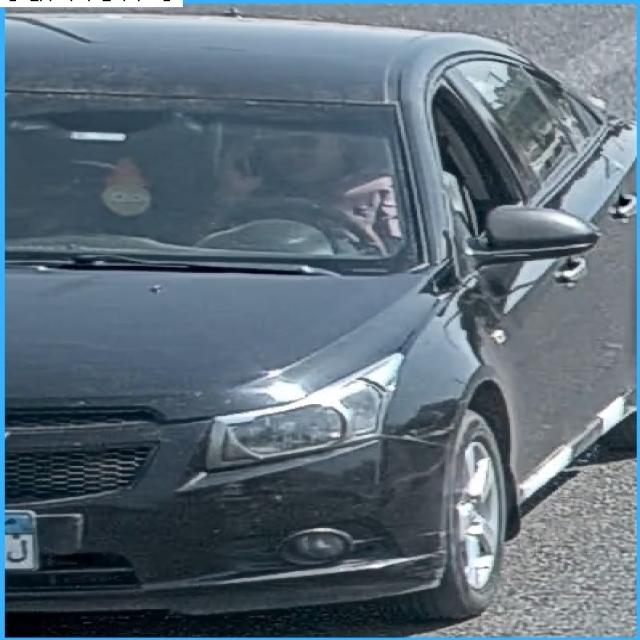windshield: (8, 102, 412, 264)
